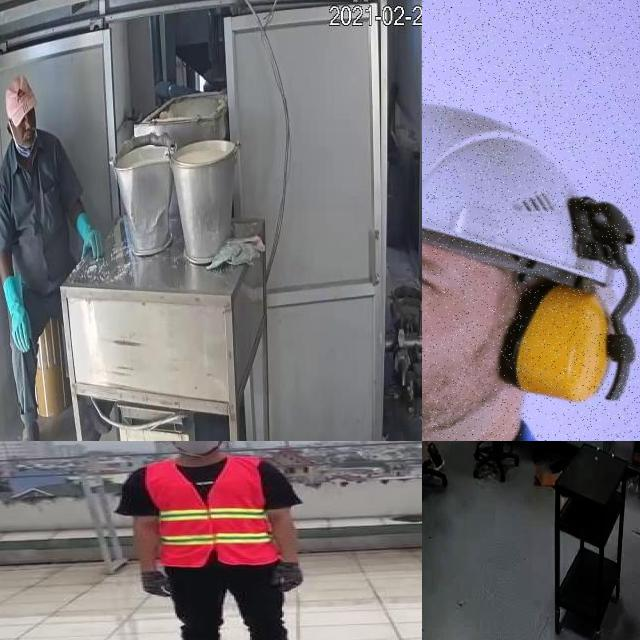Ear-protection: (492, 277, 620, 396)
No_Glasses: (422, 232, 450, 325)
face_mask: (166, 441, 221, 455)
face_nomask: (13, 108, 38, 143)
hand_glove: (5, 299, 39, 361), (74, 225, 113, 261), (272, 560, 304, 592), (136, 573, 172, 599)
head_helmet: (422, 104, 622, 240)
head_nohelmet: (1, 75, 41, 126)
person: (117, 441, 309, 640), (0, 76, 93, 441)
shoes: (13, 417, 48, 441), (426, 441, 445, 475)
vest: (145, 457, 275, 568)
